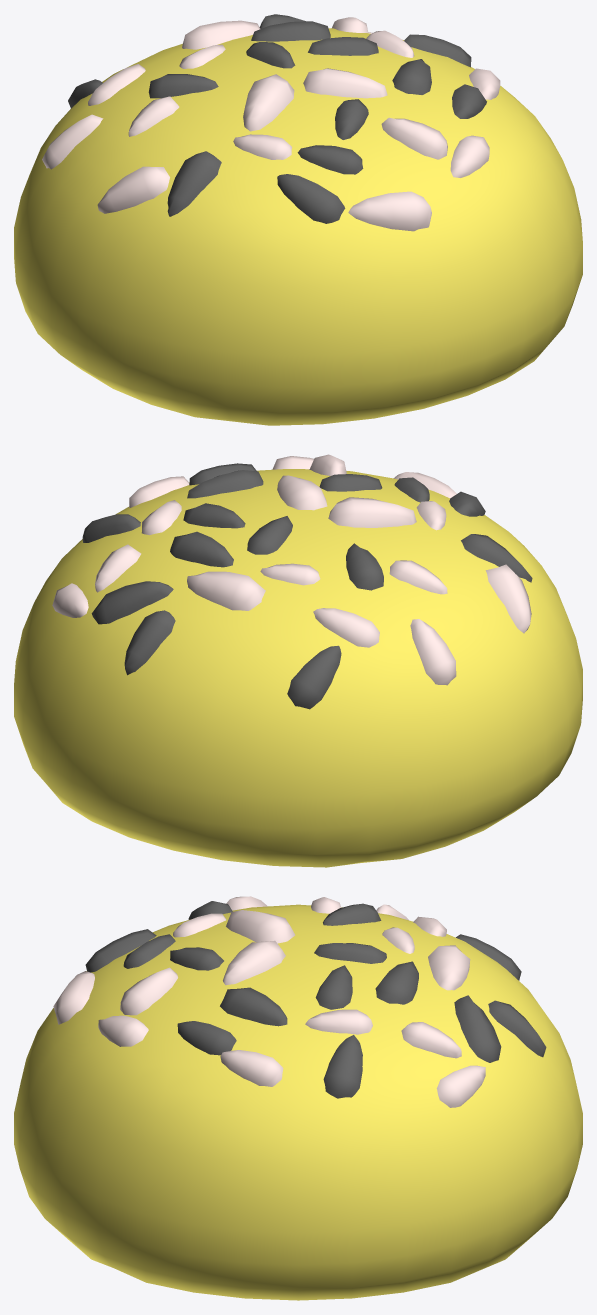
The model's file is bread.glb.
3 renders of one model, top to bottom at view 1: azimuth 30°, elevation 25°; view 2: azimuth 150°, elevation 25°; view 3: azimuth 270°, elevation 25°, orthographic.
Parts seen in each view (by area): view 1: Bread_1; view 2: Bread_1; view 3: Bread_1.
Boxes of the visible parts, bbox=[...] form: Bread_1: bbox=[14, 14, 582, 425]; Bread_1: bbox=[14, 454, 582, 867]; Bread_1: bbox=[14, 896, 582, 1300].
Bounding box in the file's own units: 0.33 × 0.1701 × 0.33.
1 material, 1 textured.
